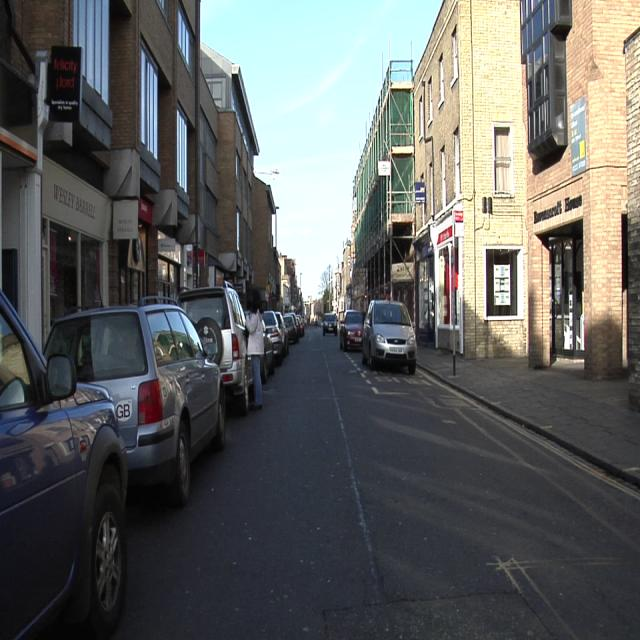Building: (1, 0, 288, 349), (351, 2, 524, 355), (522, 2, 636, 370)
Car: (1, 292, 128, 639), (47, 306, 225, 503), (180, 286, 259, 412), (362, 301, 415, 371), (264, 311, 287, 370), (339, 311, 363, 350), (283, 313, 302, 342), (323, 313, 338, 334)
Road: (114, 327, 635, 638)
